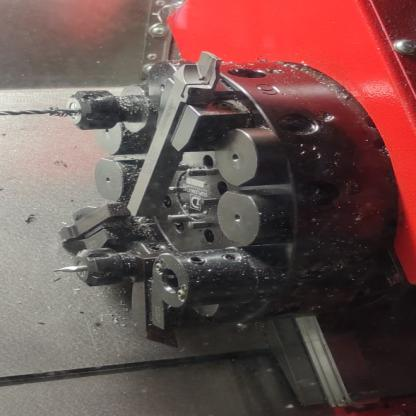bit: (119, 46, 255, 223), (127, 251, 191, 355), (50, 199, 140, 253)
